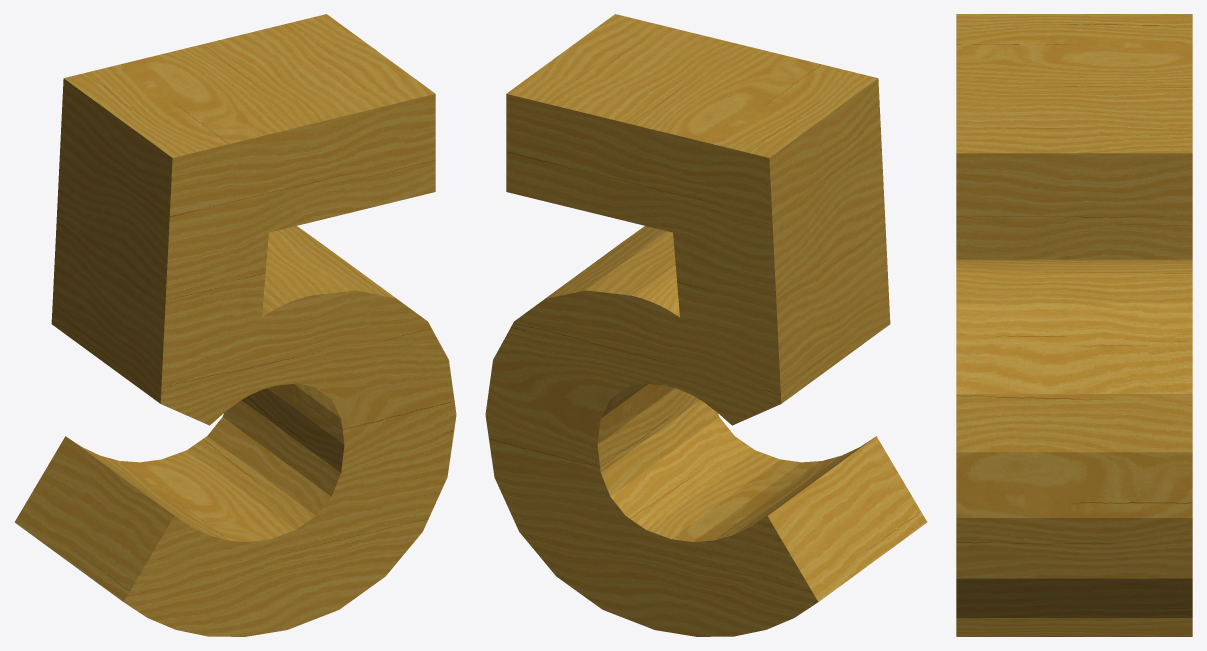
File: MounTripElement_5.glb
3 renders of one model, left to right at view 1: azimuth 30°, elevation 25°; view 2: azimuth 150°, elevation 25°; view 3: azimuth 270°, elevation 25°, orthographic. The views are drawn at different scales.
Parts seen in each view (by area): view 1: 3D 5 - 5; view 2: 3D 5 - 5; view 3: 3D 5 - 5.
Part boxes in pixels (bbox=[...]): 3D 5 - 5: bbox=[14, 14, 456, 636]; 3D 5 - 5: bbox=[485, 14, 927, 636]; 3D 5 - 5: bbox=[956, 14, 1192, 636].
Bounding box in the file's own units: 0.0265 × 0.0379 × 0.015.
Materials: 1 (1 with a texture image).
